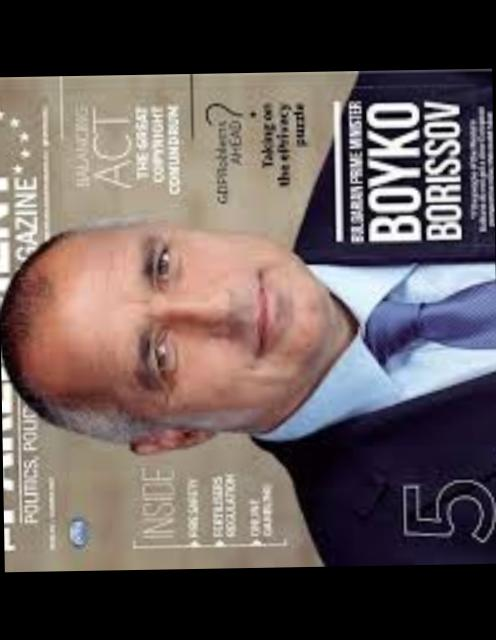cardboard paper: (0, 68, 496, 572)
